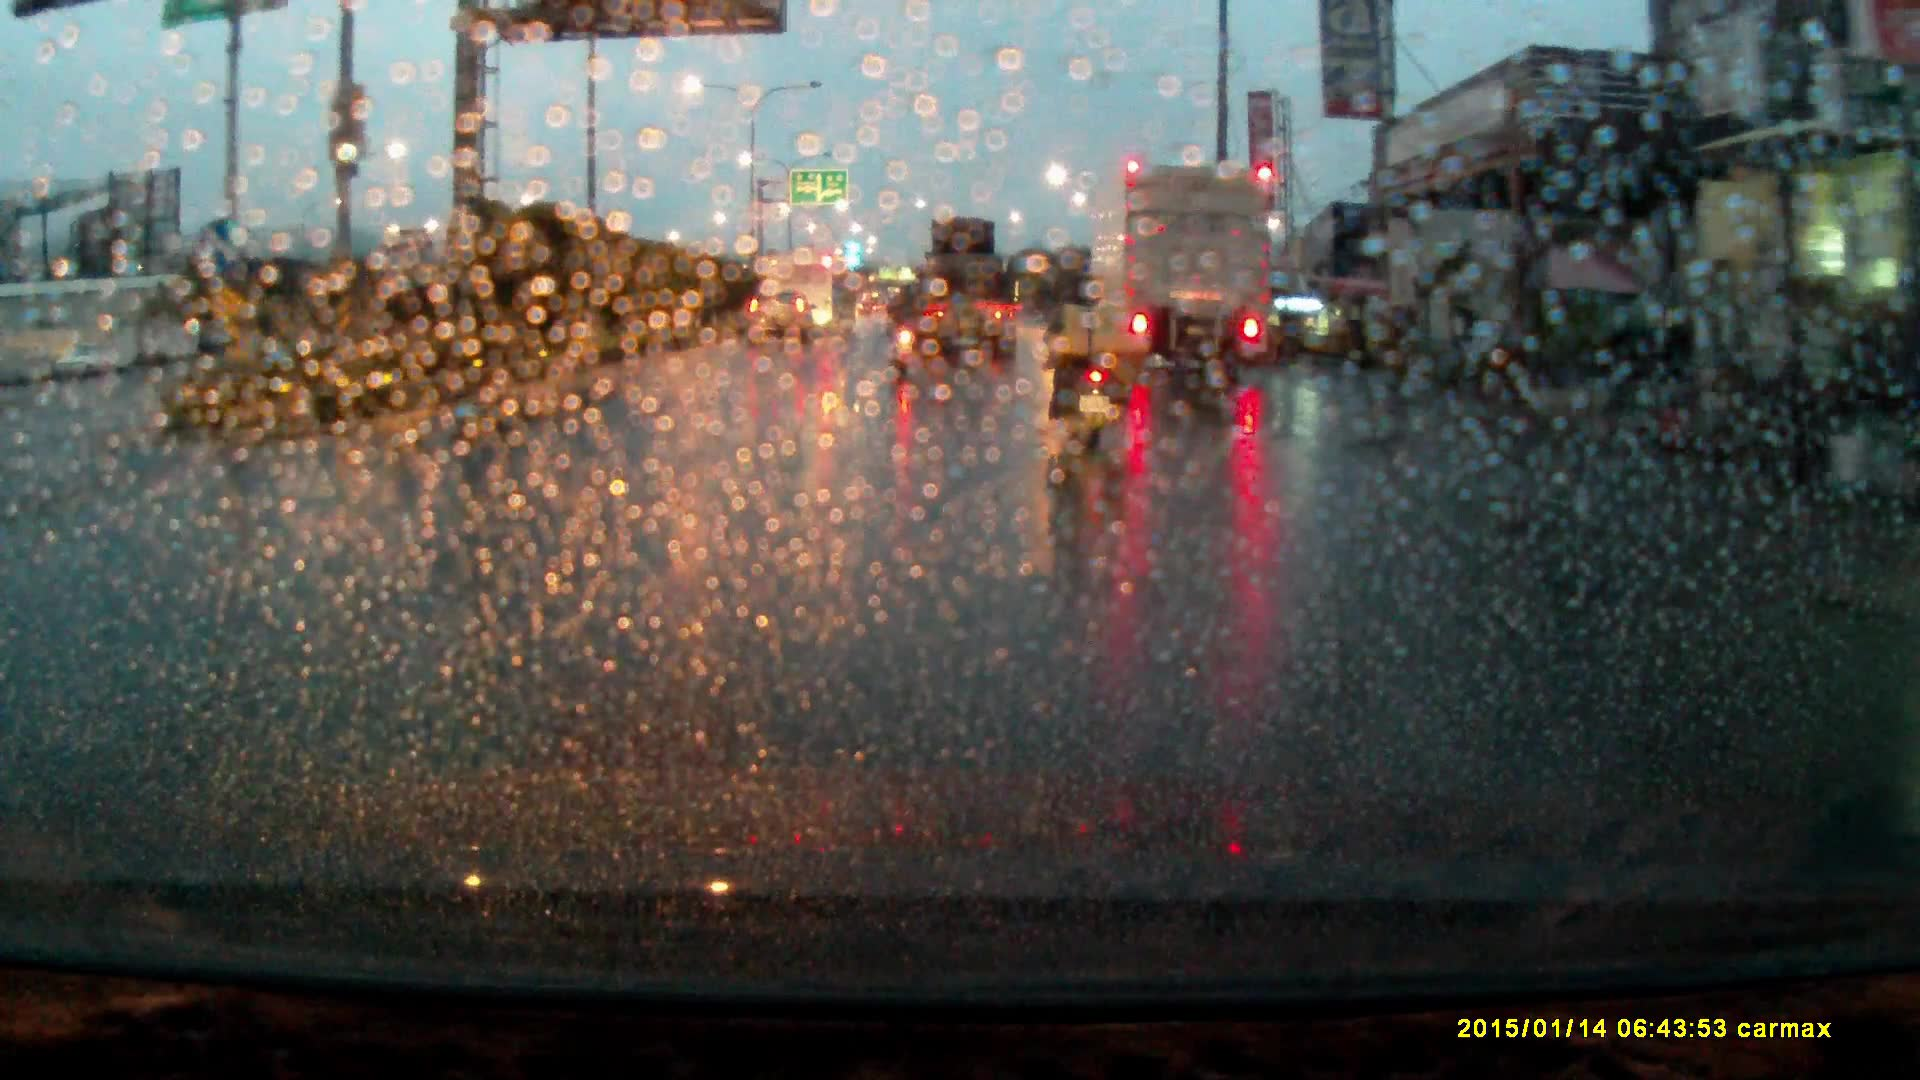rider: (1046, 258, 1130, 446), (890, 268, 928, 363)
vehicle: (1085, 154, 1281, 377), (906, 214, 1010, 362), (775, 244, 850, 327), (747, 285, 819, 351)
